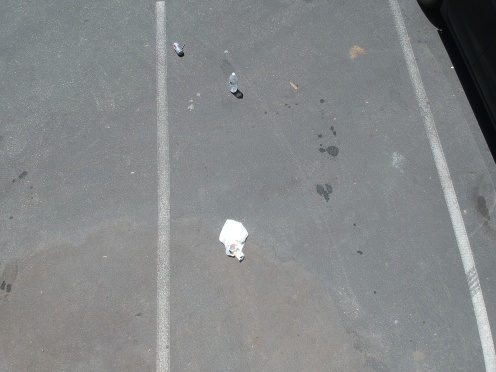bottle: (225, 68, 242, 95)
can: (167, 40, 184, 56)
plastic bag: (209, 215, 251, 262)
